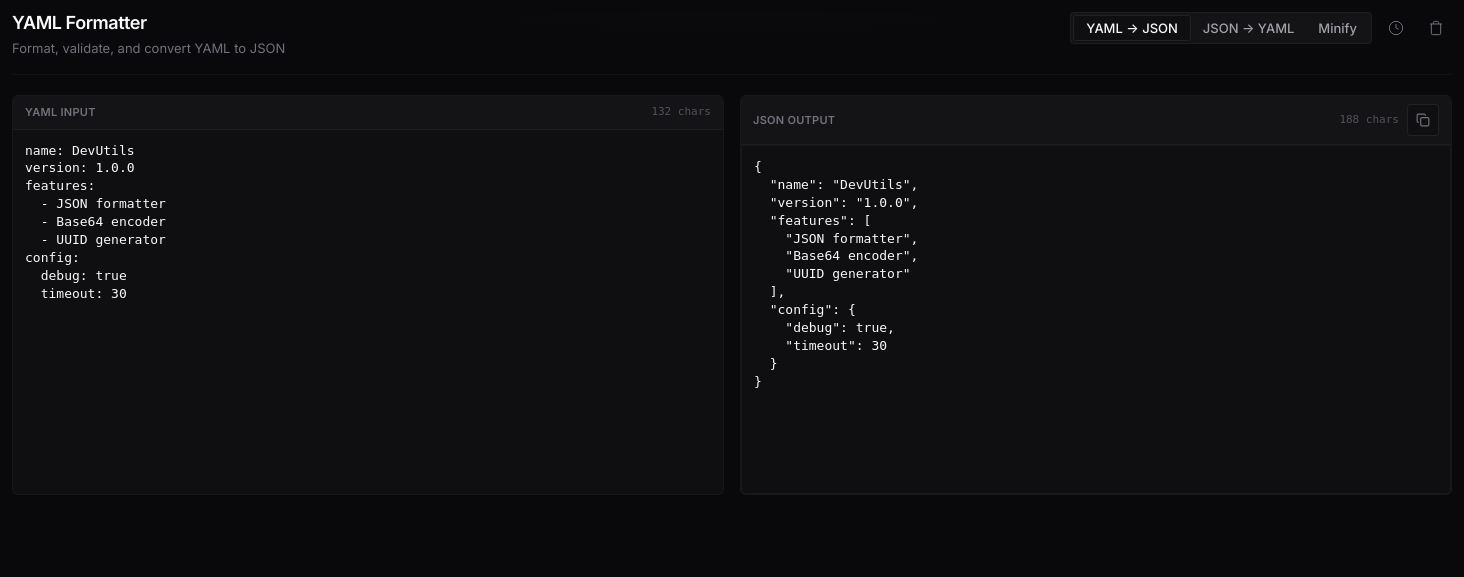
Scenario: YamlTool › should handle invalid YAML
Replace the text in the text box with class "editor-textarea" with ": invalid yaml" at (368, 312), box [13,130,723,494]
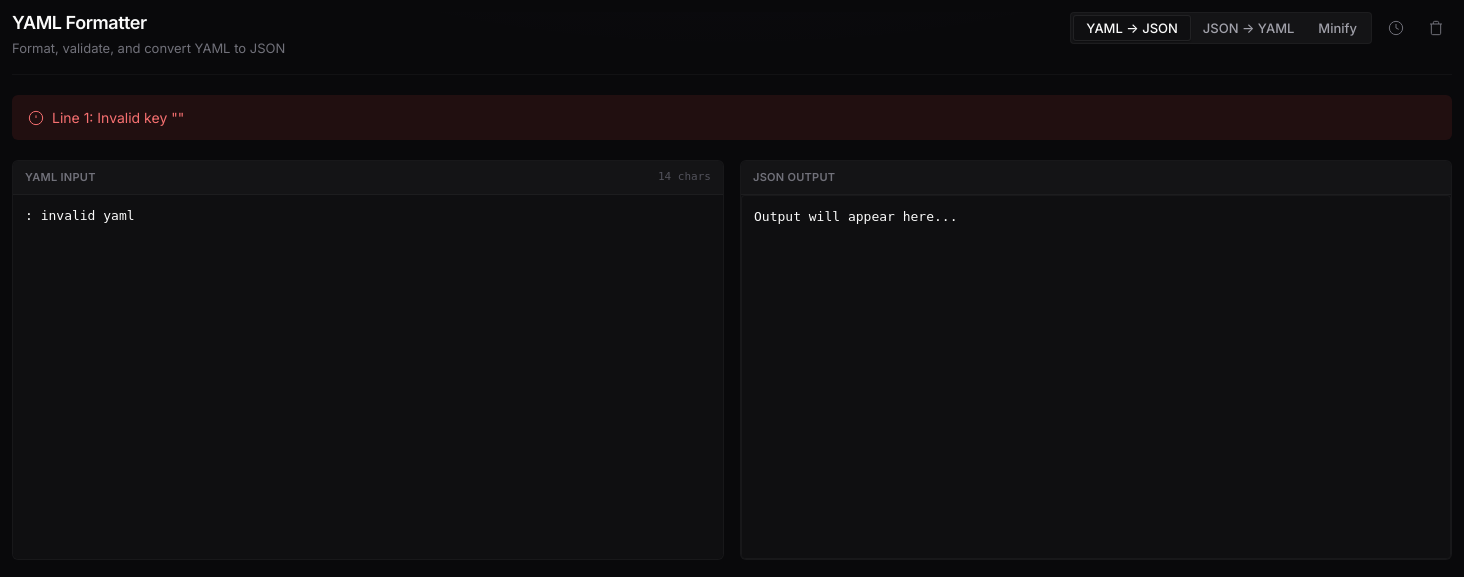
expect the message "Line 1: Invalid key \"\"" is shown: met, box [12,95,1452,140]
